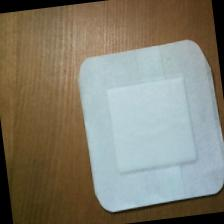Dressing: (71, 31, 224, 217)
